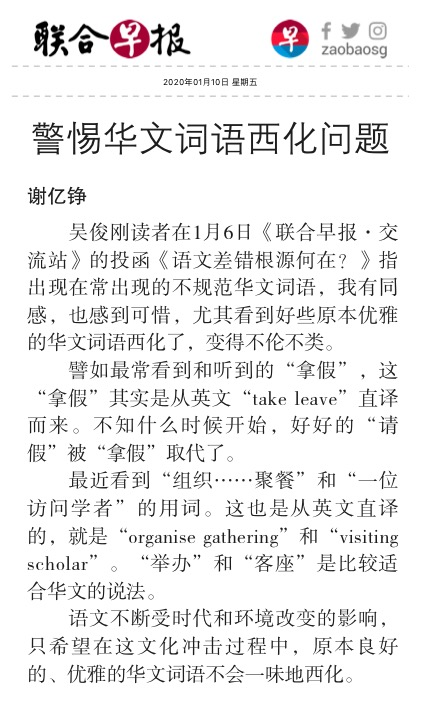heading: (27, 109, 392, 164)
